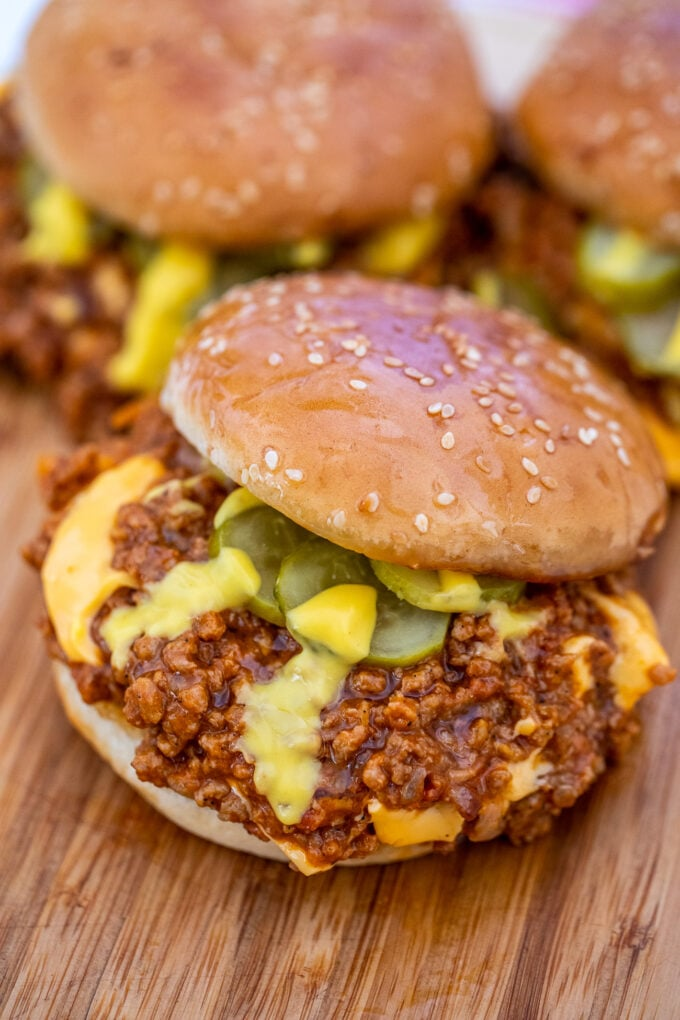hamburger_buns: (156, 265, 680, 583), (36, 3, 622, 251)
